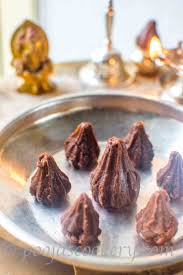modak: (84, 143, 146, 211), (55, 199, 117, 252), (128, 192, 182, 248), (24, 154, 77, 200), (118, 115, 156, 166), (62, 120, 103, 164), (153, 146, 183, 199)
